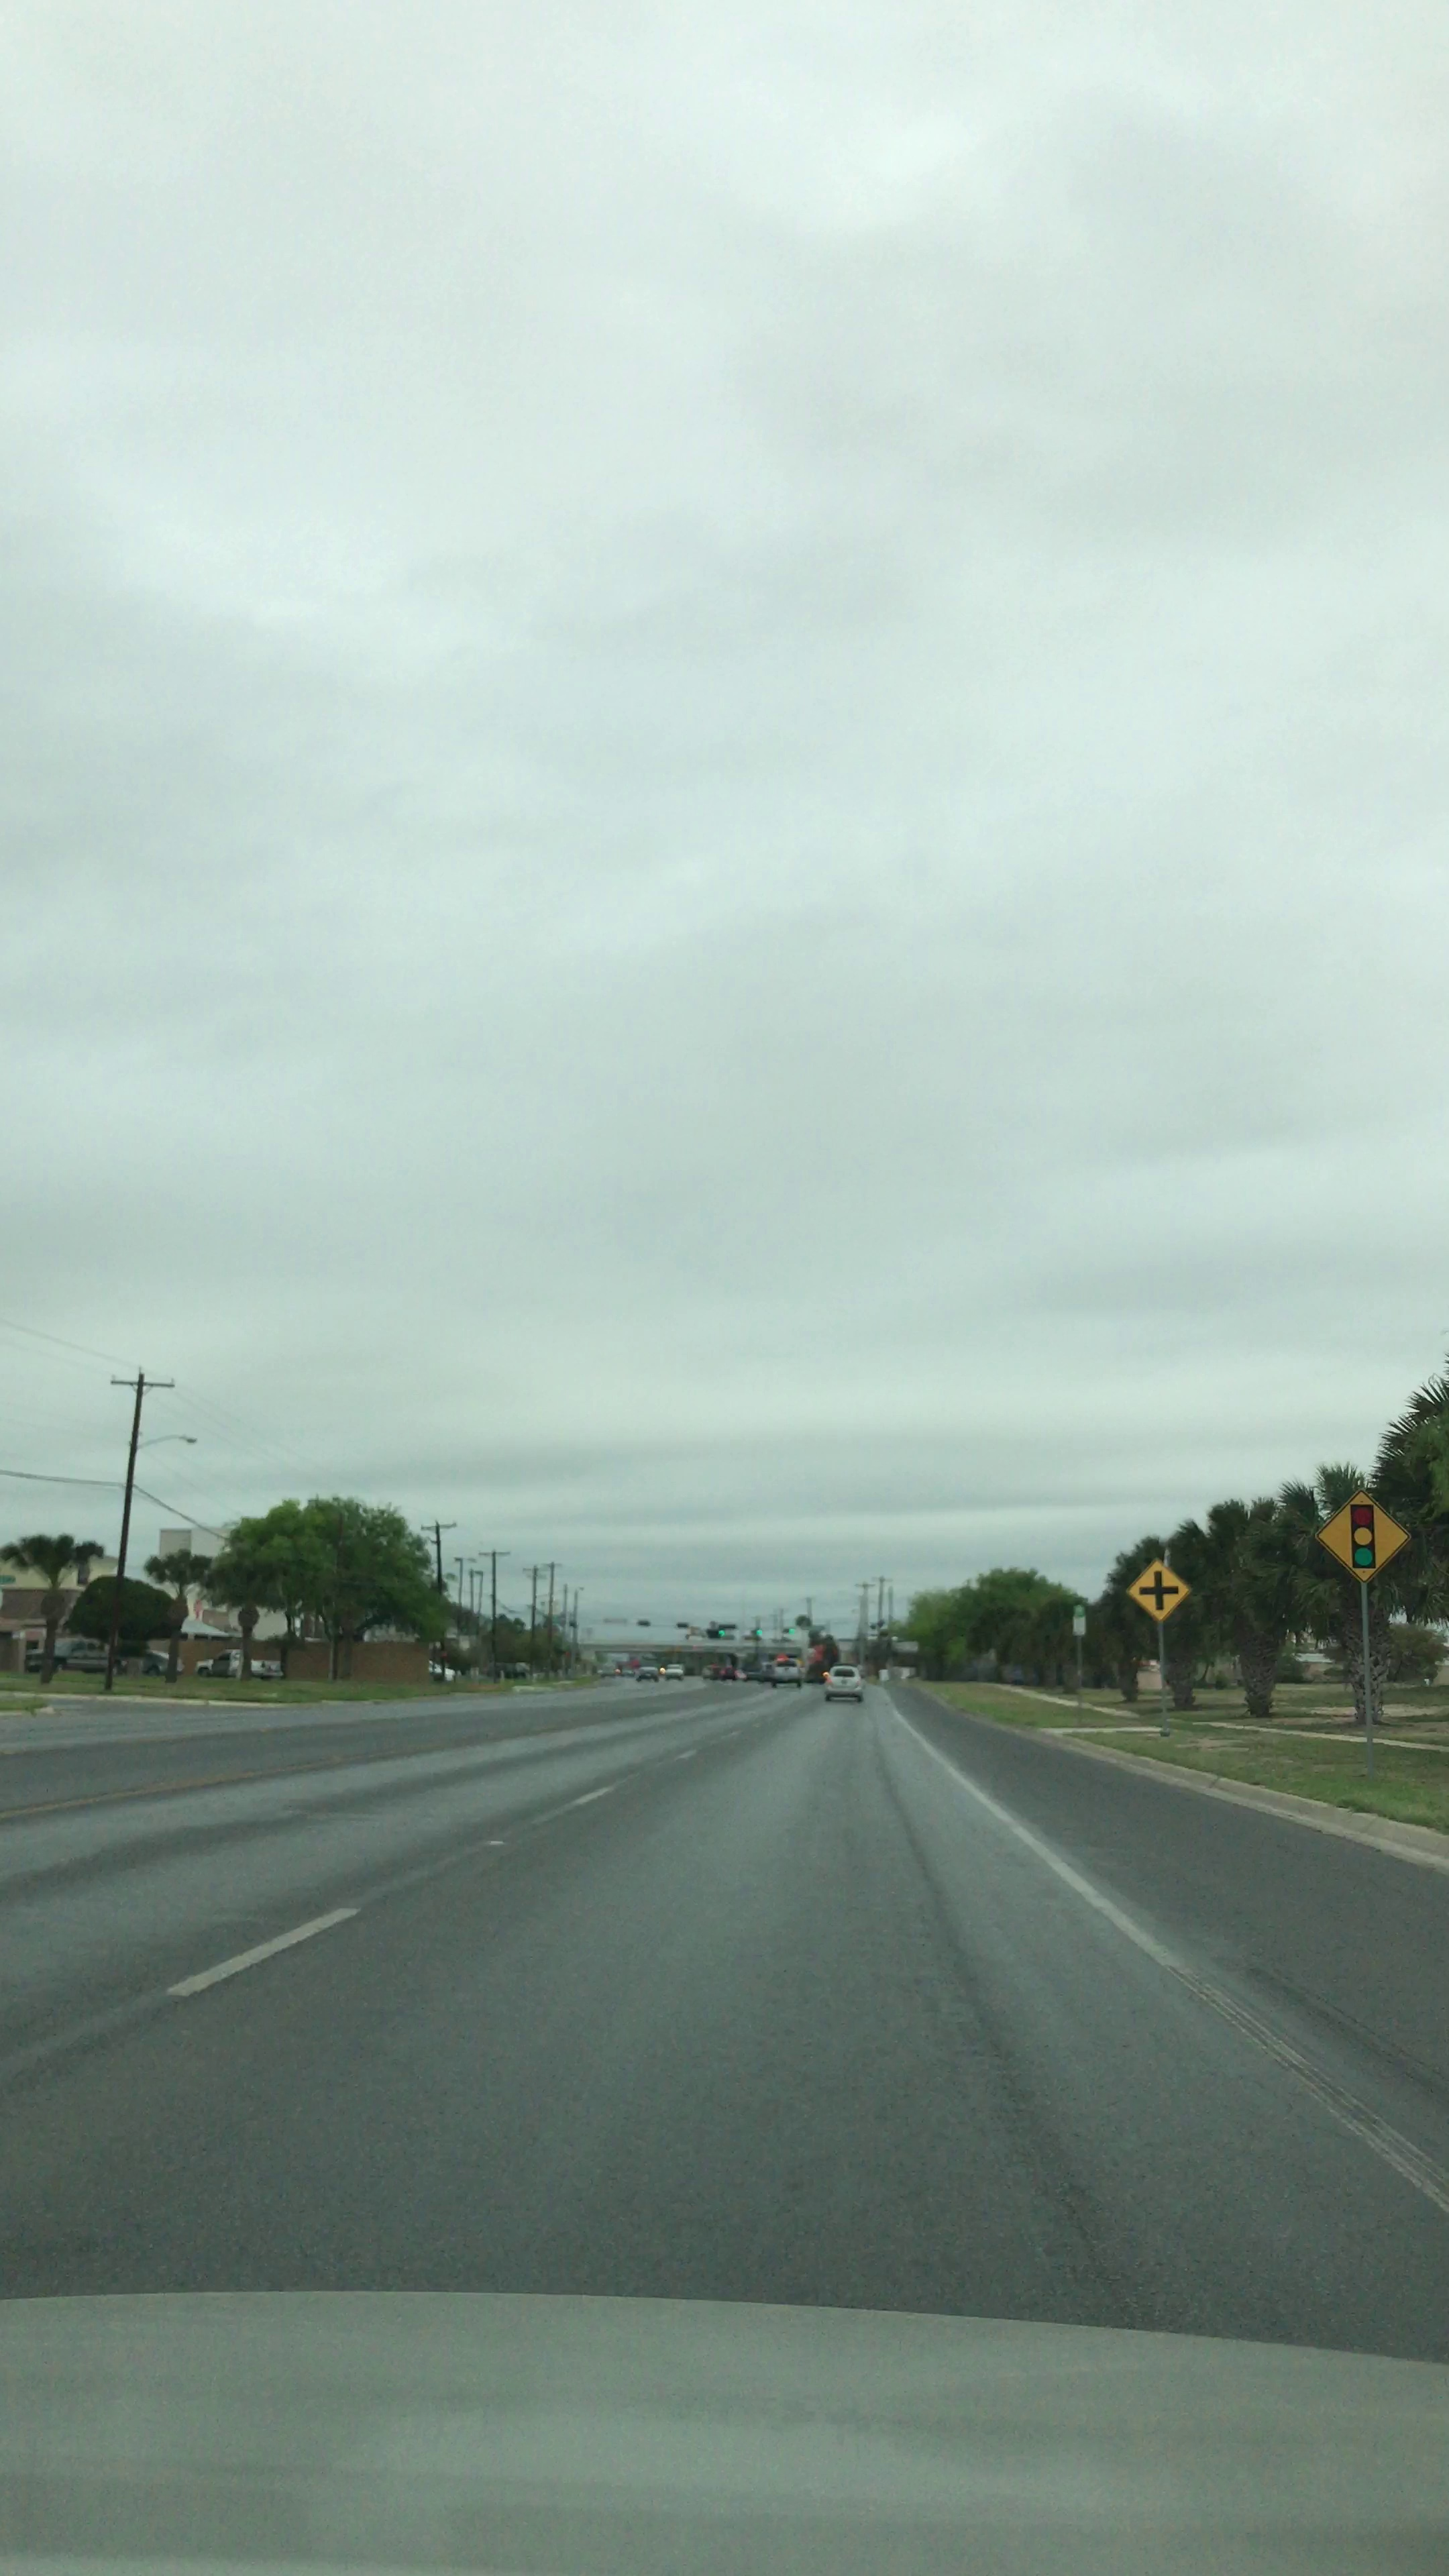blurredLine: (1116, 1923, 1449, 2212)
